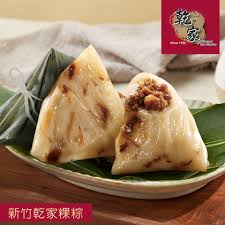zongzi: (31, 45, 206, 174), (0, 48, 73, 150)
